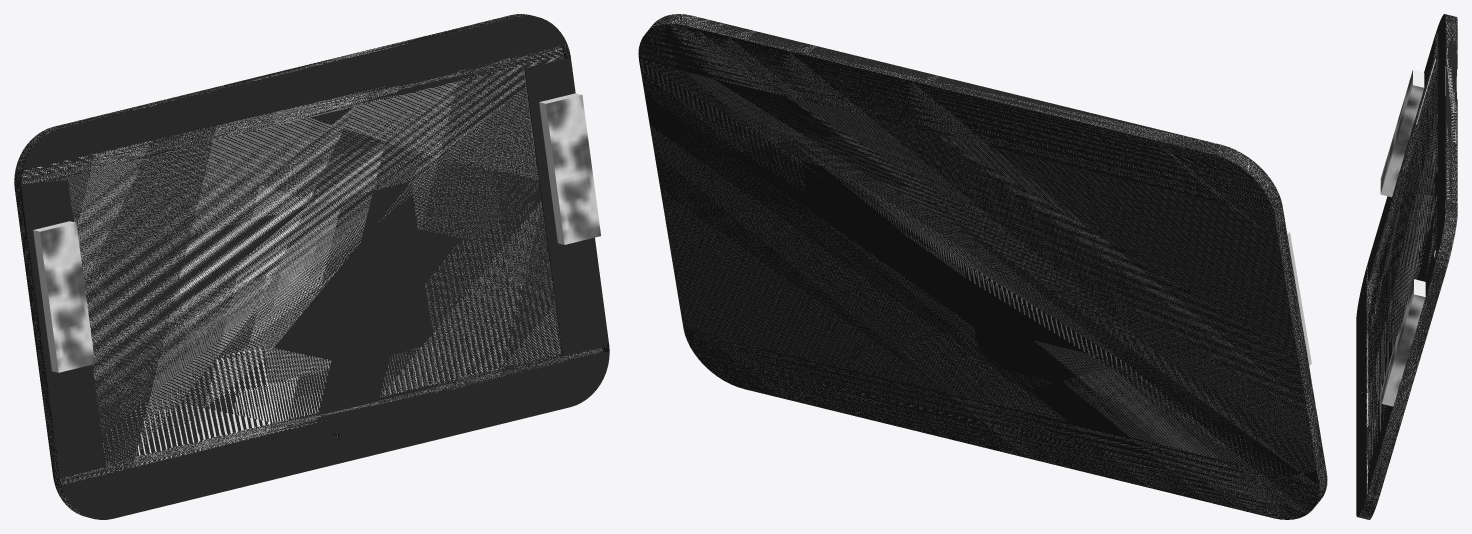
The picture shows the model from 3 angles, left to right: view 1: azimuth 30°, elevation 25°; view 2: azimuth 150°, elevation 25°; view 3: azimuth 270°, elevation 25°; orthographic projection. The views are drawn at different scales.
Size of the model in its own units: 1.44 by 0.8897 by 0.2677.
9 materials, 3 textured.
